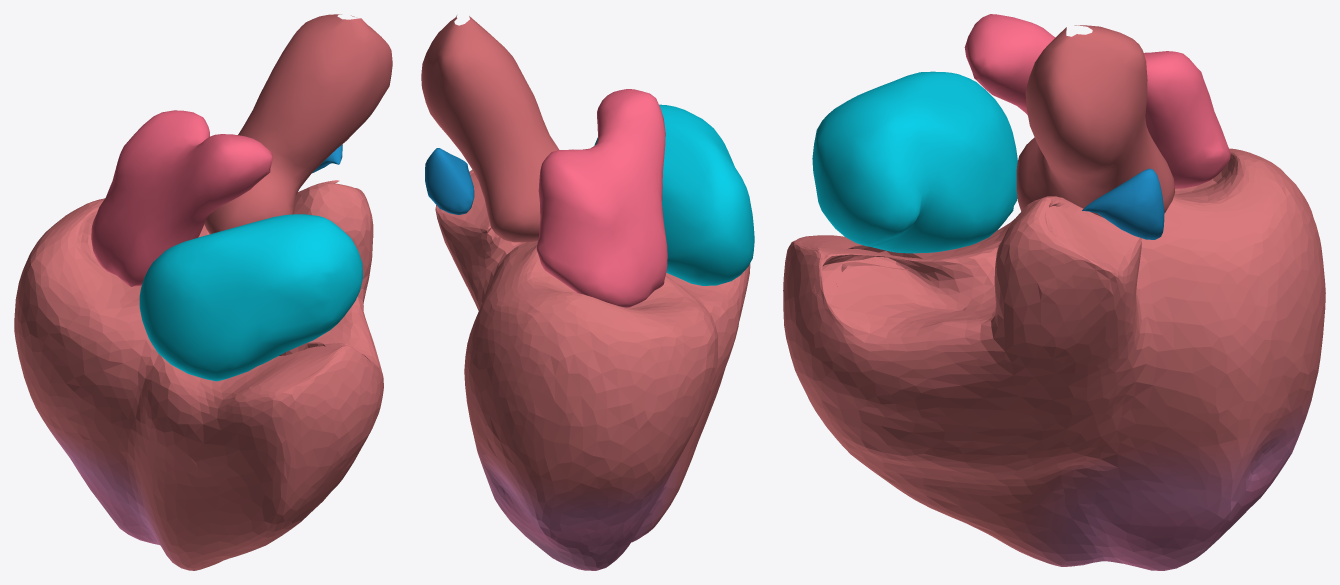
The model's file is frame_8.glb.
3 renders of one model, left to right at view 1: azimuth 30°, elevation 25°; view 2: azimuth 150°, elevation 25°; view 3: azimuth 270°, elevation 25°, orthographic. The views are drawn at different scales.
Parts seen in each view (by area): view 1: Renderer Node; view 2: Renderer Node; view 3: Renderer Node.
Part boxes in pixels (x1,y1,x2,y2): Renderer Node: (14, 14, 392, 570); Renderer Node: (421, 15, 754, 570); Renderer Node: (783, 14, 1325, 570).
Bounding box in the file's own units: 104 × 158 × 122.
